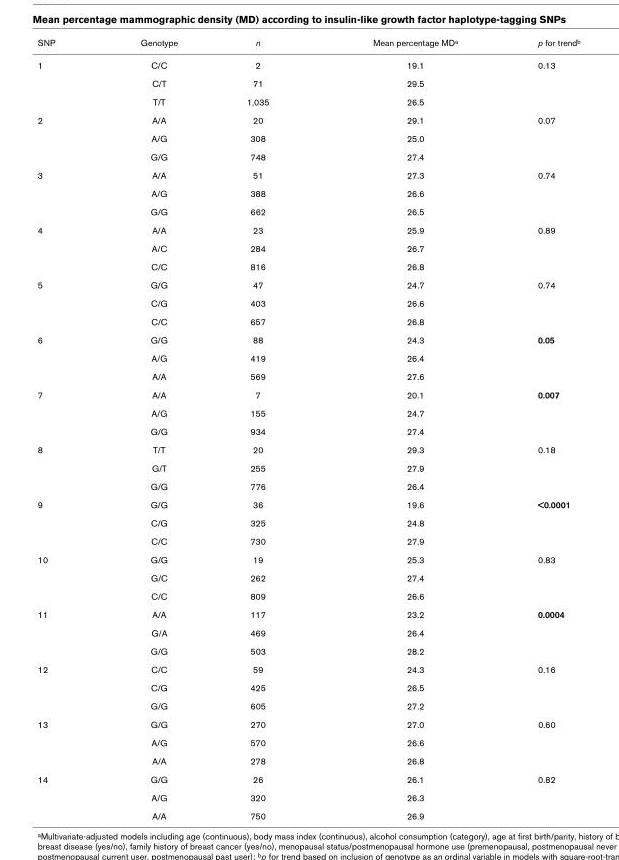table: (36, 36, 579, 820)
table column: (320, 36, 497, 820), (97, 36, 211, 820), (211, 36, 320, 820), (497, 36, 579, 820), (36, 36, 97, 820)
table column header: (36, 36, 579, 53)
table row: (36, 53, 579, 73), (36, 73, 579, 92), (36, 128, 579, 147), (36, 183, 579, 202), (36, 238, 579, 257), (36, 311, 579, 330), (36, 366, 579, 385), (36, 421, 579, 440), (36, 494, 579, 513), (36, 549, 579, 568), (36, 604, 579, 623), (36, 659, 579, 678), (36, 714, 579, 733), (36, 787, 579, 806), (36, 92, 579, 110), (36, 110, 579, 128), (36, 147, 579, 165), (36, 165, 579, 183), (36, 202, 579, 220), (36, 220, 579, 238), (36, 257, 579, 275), (36, 275, 579, 293), (36, 293, 579, 311), (36, 330, 579, 348), (36, 348, 579, 366), (36, 385, 579, 403), (36, 403, 579, 421), (36, 440, 579, 458), (36, 458, 579, 476), (36, 476, 579, 494), (36, 513, 579, 531), (36, 531, 579, 549), (36, 568, 579, 586), (36, 586, 579, 604), (36, 623, 579, 641), (36, 641, 579, 659), (36, 678, 579, 696), (36, 696, 579, 714), (36, 733, 579, 751), (36, 751, 579, 769), (36, 769, 579, 787), (36, 36, 579, 53), (36, 806, 579, 820)
table spanning cell: (36, 53, 97, 110), (36, 110, 97, 165), (36, 165, 97, 220), (36, 220, 97, 275), (36, 275, 97, 330), (36, 330, 97, 385), (36, 385, 97, 440), (36, 494, 97, 549), (36, 549, 97, 604), (36, 604, 97, 659), (36, 659, 97, 714), (36, 714, 97, 769), (36, 440, 97, 494), (36, 769, 97, 820)
